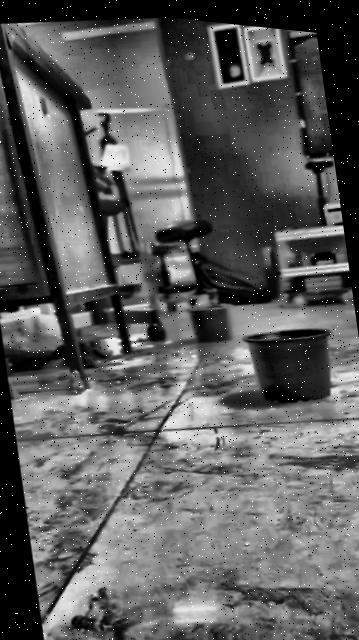pot: (239, 316, 338, 412), (185, 299, 231, 344)
